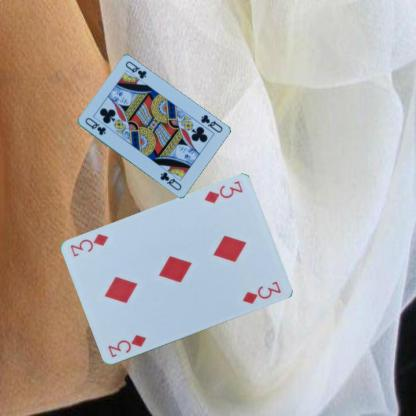3d: (105, 332, 147, 359), (202, 179, 244, 205)
Qc: (198, 112, 224, 134), (82, 115, 107, 136)
